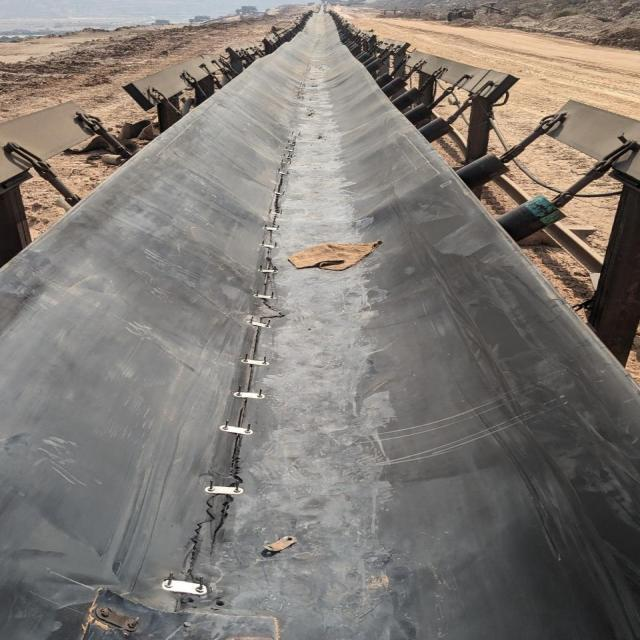Other Objects: (289, 240, 383, 271)
Roller: (371, 68, 456, 138), (500, 193, 562, 242), (453, 152, 502, 192)
patch work: (127, 167, 296, 603), (82, 592, 282, 640)
